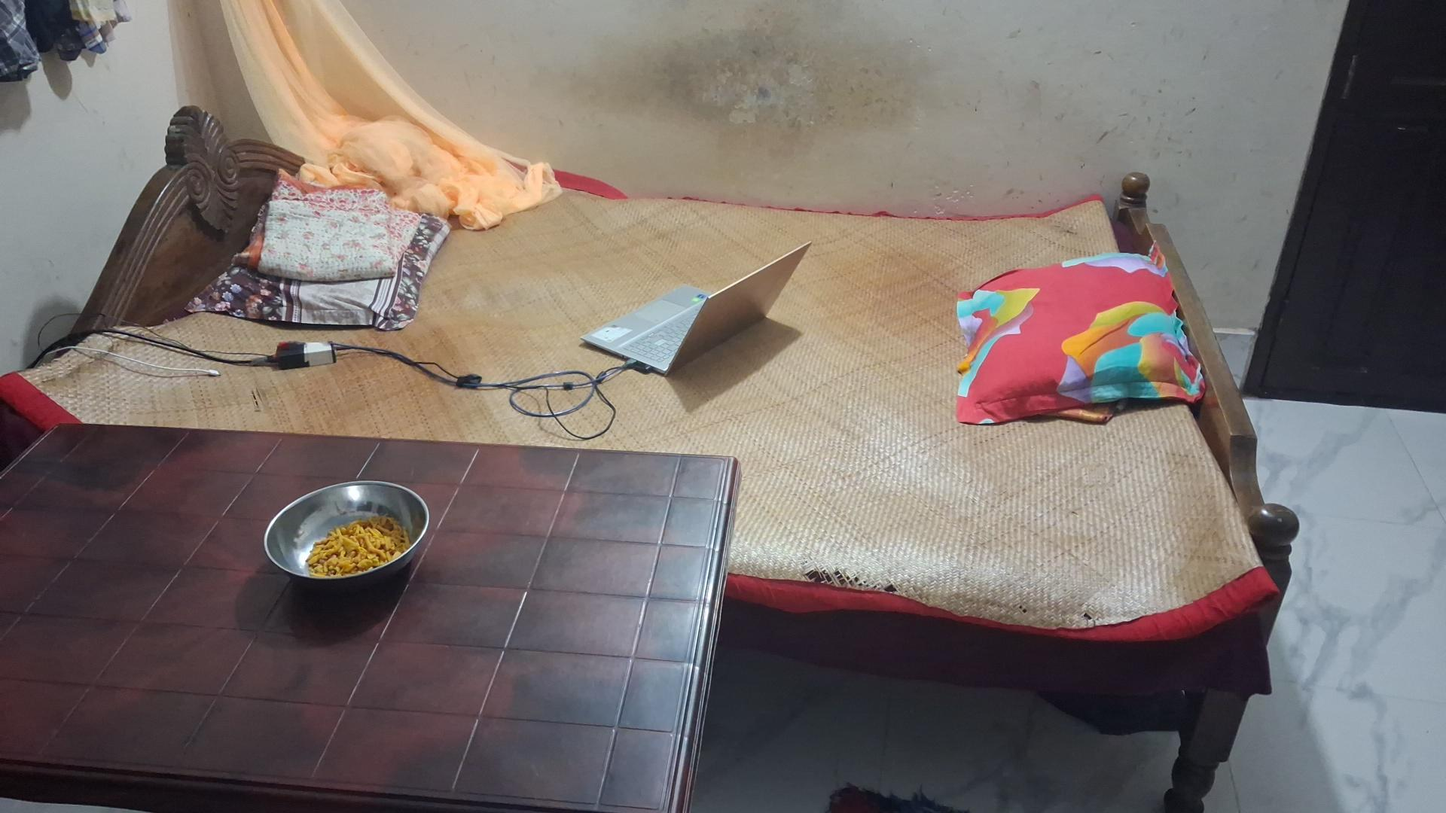Blanket: (243, 172, 421, 278)
Bowl: (260, 473, 428, 586)
Food: (305, 515, 399, 576)
Laptop: (579, 242, 811, 376)
Pillow: (951, 264, 1197, 413)
Table: (0, 423, 735, 813)
